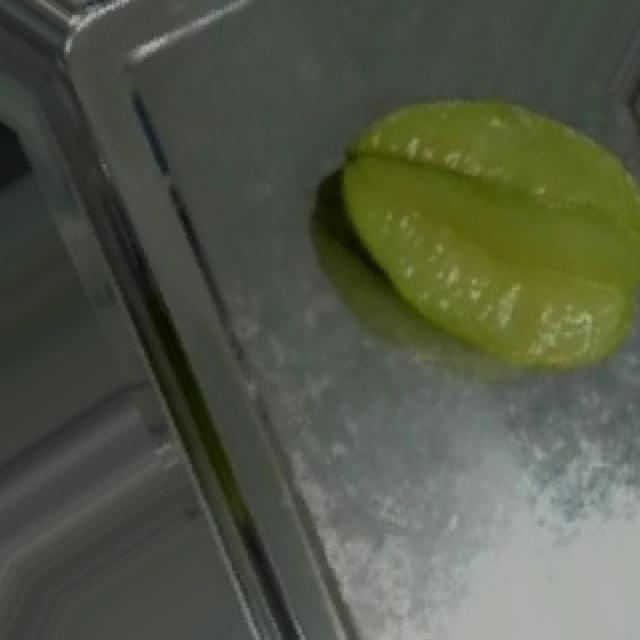fruit: (292, 44, 640, 417)
